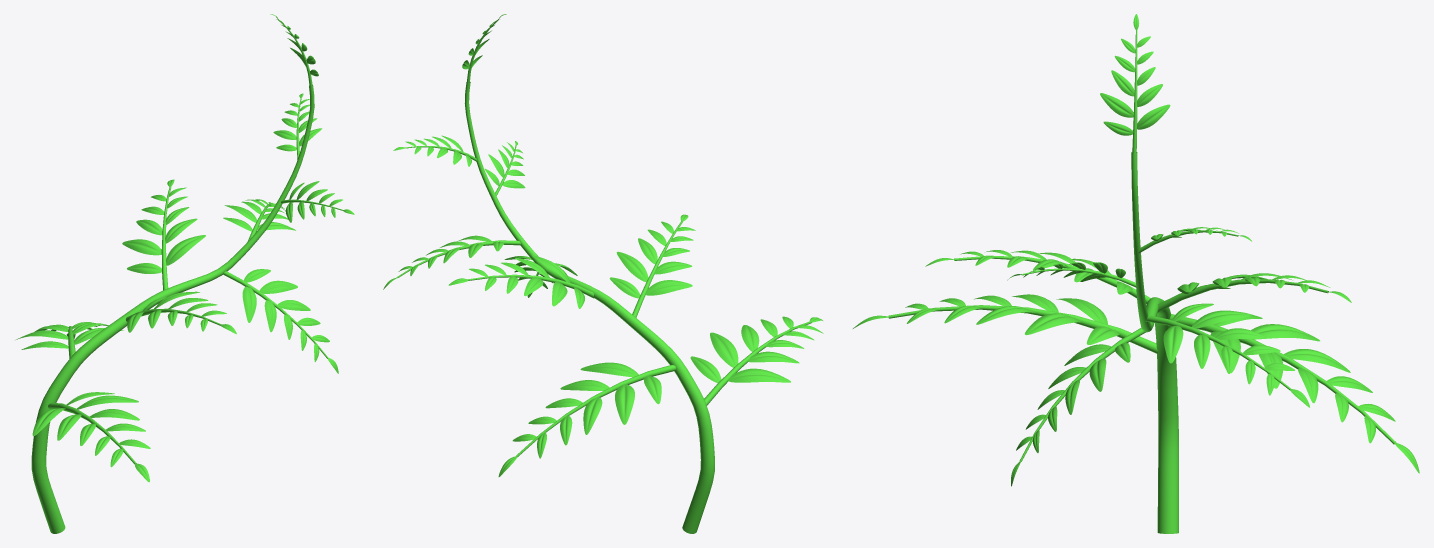
The model's file is plant_body.glb.
The picture shows the model from 3 angles, left to right: view 1: azimuth 30°, elevation 25°; view 2: azimuth 150°, elevation 25°; view 3: azimuth 270°, elevation 25°; orthographic projection. The views are drawn at different scales.
Visible parts, largest first — view 1: Plant, Vert.002, Vert.005, Vert.006, Vert.004, Vert.003, Vert.007, Vert.008, Vert.009, Vert.010; view 2: Plant, Vert.003, Vert.002, Vert.004, Vert.005, Vert.007, Vert.008, Vert.009; view 3: Plant, Vert.003, Vert.002, Vert.007, Vert.006, Vert.010, Vert.004, Vert.005, Vert.008.
Part boxes in pixels (<box>): Plant: <box>31,85,314,533</box>; Vert.002: <box>32,392,150,482</box>; Vert.005: <box>122,179,205,290</box>; Vert.006: <box>223,269,338,373</box>; Vert.004: <box>126,291,236,334</box>; Vert.003: <box>16,322,123,358</box>; Vert.007: <box>223,199,295,241</box>; Vert.008: <box>281,181,354,222</box>; Vert.009: <box>273,93,322,159</box>; Vert.010: <box>270,14,318,86</box>; Plant: <box>464,82,714,533</box>; Vert.003: <box>498,362,675,476</box>; Vert.002: <box>690,316,823,405</box>; Vert.004: <box>609,214,695,317</box>; Vert.005: <box>448,255,594,308</box>; Vert.007: <box>383,235,520,289</box>; Vert.008: <box>484,141,525,195</box>; Vert.009: <box>393,135,476,166</box>; Plant: <box>1131,152,1178,533</box>; Vert.003: <box>1169,312,1419,473</box>; Vert.002: <box>853,294,1157,353</box>; Vert.007: <box>1145,303,1309,407</box>; Vert.006: <box>1011,328,1146,486</box>; Vert.010: <box>1100,14,1170,153</box>; Vert.004: <box>925,250,1150,304</box>; Vert.005: <box>1157,273,1351,312</box>; Vert.008: <box>1007,262,1136,287</box>.
Size of the model in its own units: 4.25 by 5.69 by 4.46.
